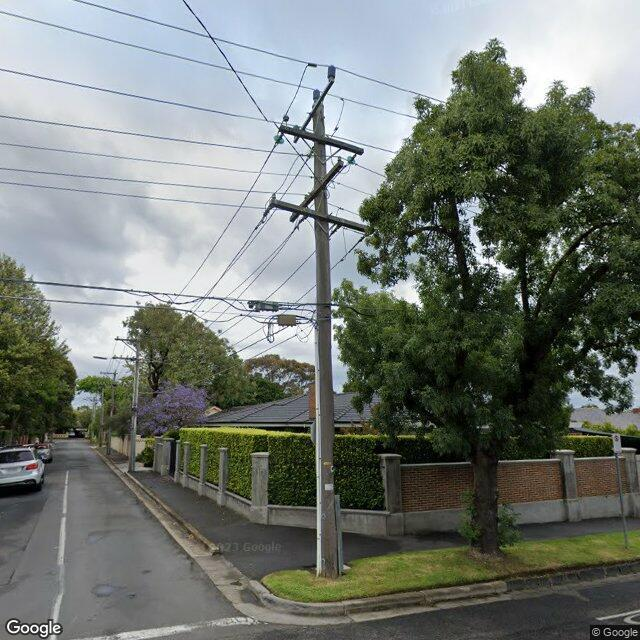HV-transmission: (273, 66, 365, 165)
crossarm: (262, 191, 374, 243), (288, 156, 345, 223), (293, 79, 335, 144), (279, 124, 364, 156), (112, 354, 144, 361), (115, 338, 143, 342), (100, 372, 119, 374)
streetlight: (93, 355, 112, 360)
timber-pole: (310, 102, 344, 578), (128, 335, 142, 472), (105, 369, 116, 456)
